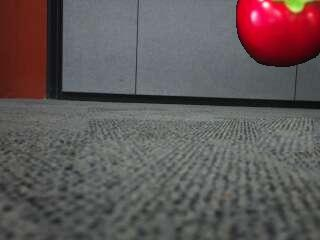Tomato: (232, 0, 320, 71)
